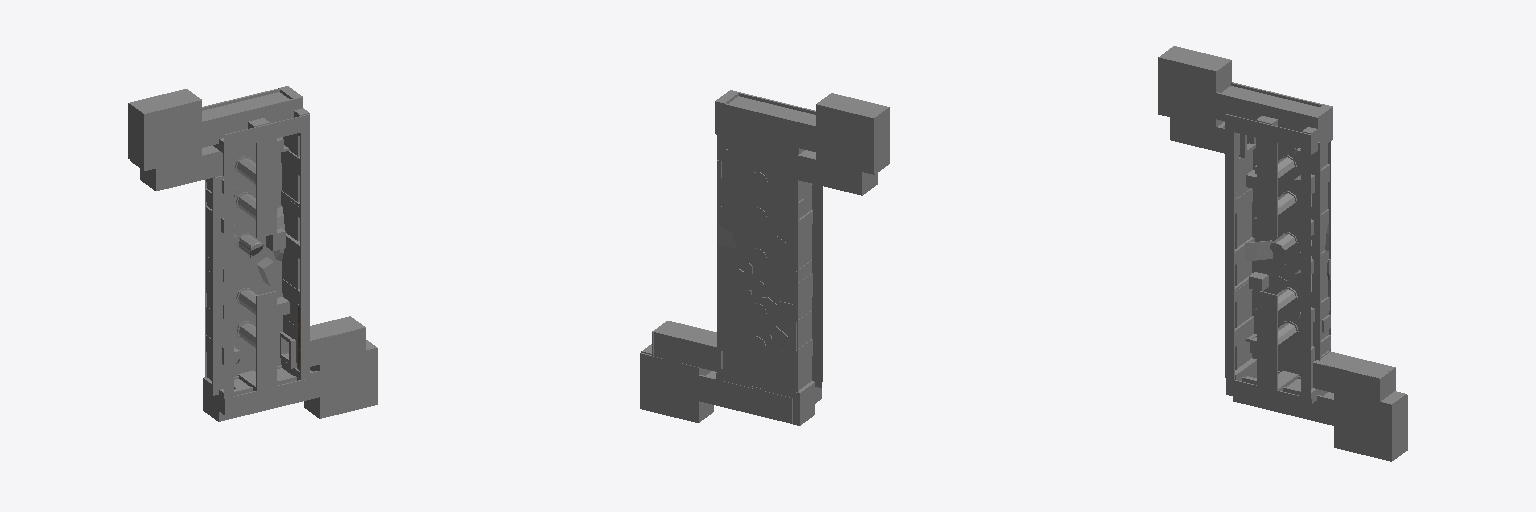
3 views of the same model, side by side, from view 1: azimuth 30°, elevation 25°; view 2: azimuth 150°, elevation 25°; view 3: azimuth 330°, elevation 25° (orthographic).
Parts seen in each view (by area): view 1: Model_0000; view 2: Model_0000; view 3: Model_0000.
Part boxes in pixels (x1,y1,x2,y2): Model_0000: (128,86,377,421); Model_0000: (640,90,889,425); Model_0000: (1158,46,1407,461).
Bounding box in the file's own units: 1757 × 2497 × 306.
20 materials, 1 textured.